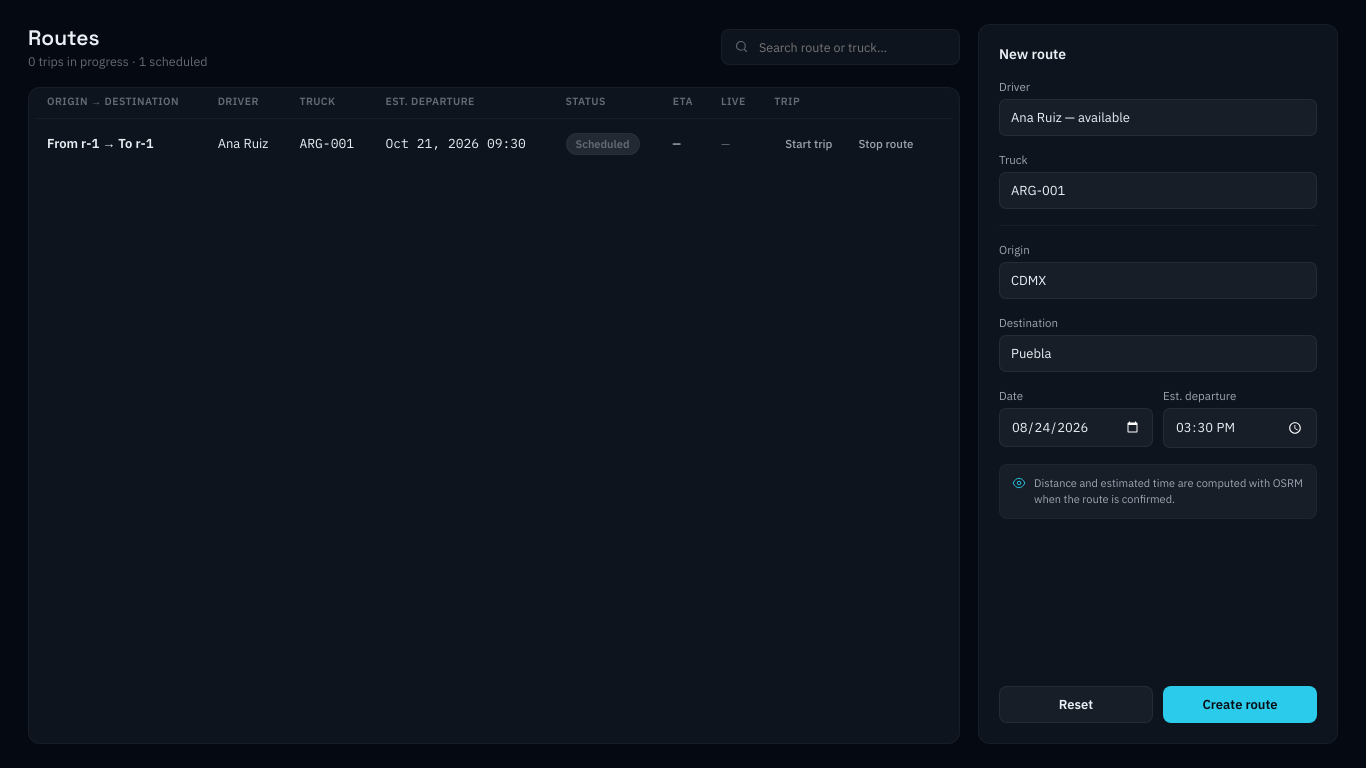
Test case: TravelManagement trips › Start trip sets the route in progress with a departure time
This screenshot has width=1366, height=768.
Click the button "Start trip".
click(809, 144)  # box x1=774 y1=131 x2=843 y2=156
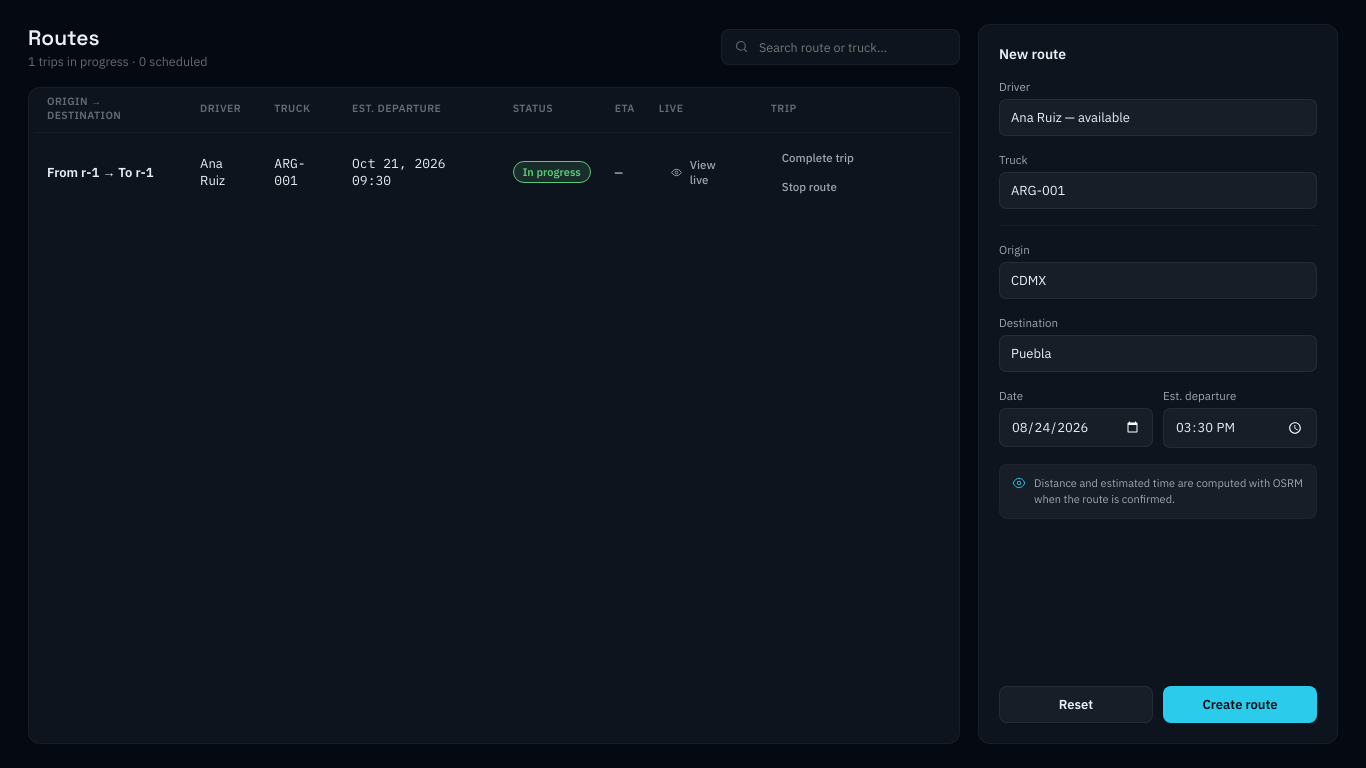
Result: the button "Complete trip" is shown at x1=771 y1=145 x2=865 y2=170
